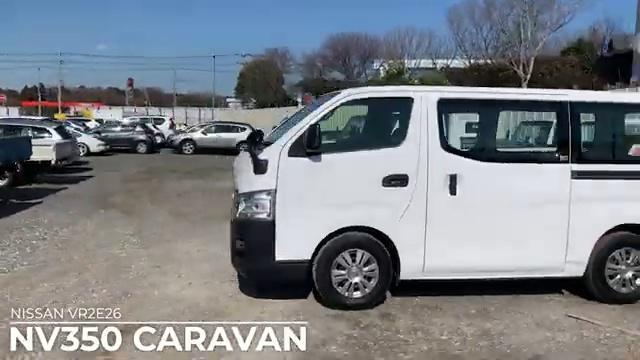van: (235, 81, 640, 310)
